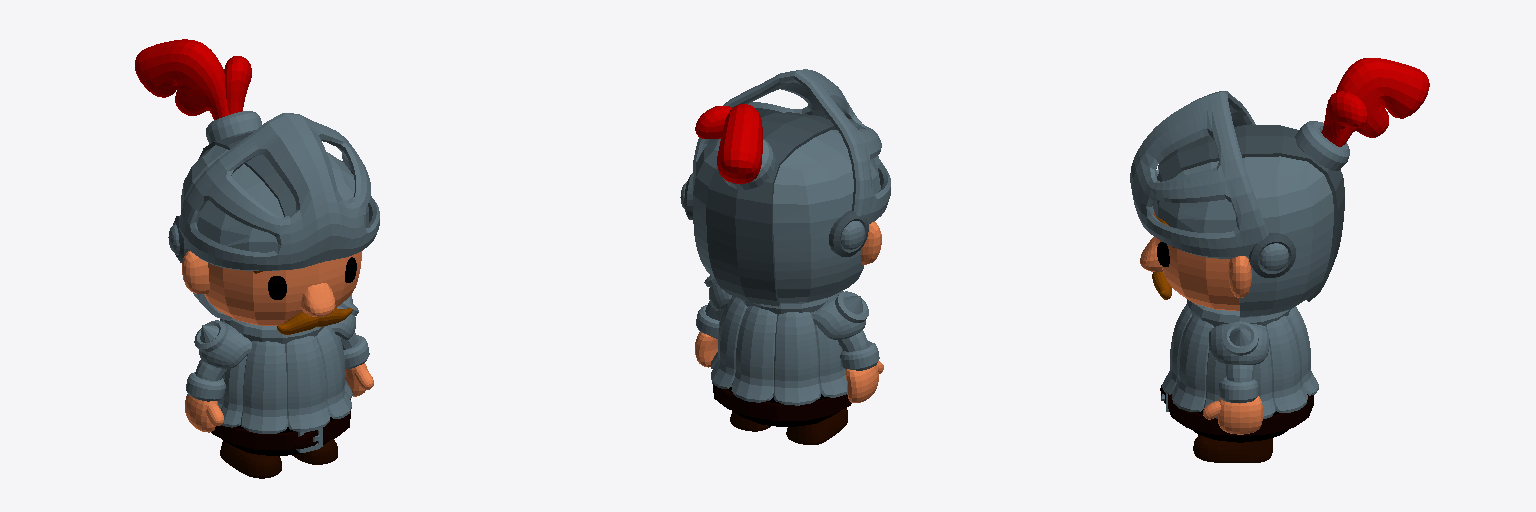
File: Knight2final.obj
The picture shows the model from 3 angles: view 1: azimuth 30°, elevation 25°; view 2: azimuth 150°, elevation 25°; view 3: azimuth 270°, elevation 25°; orthographic projection.
Parts seen in each view (by area): view 1: Knight2_Head, Knight2_Body, Knight2_Right_Arm, Knight2_Left_Arm, Knight2_Right_Foot, Knight2_Left_Foot; view 2: Knight2_Head, Knight2_Body, Knight2_Right_Arm, Knight2_Left_Arm, Knight2_Right_Foot; view 3: Knight2_Head, Knight2_Body, Knight2_Left_Arm, Knight2_Left_Foot.
Boxes of the visible parts, box(x1,y1,x2,y2) form: Knight2_Head: box(135, 39, 379, 334); Knight2_Body: box(211, 318, 352, 456); Knight2_Right_Arm: box(185, 320, 251, 432); Knight2_Left_Arm: box(330, 294, 373, 396); Knight2_Right_Foot: box(220, 440, 281, 478); Knight2_Left_Foot: box(292, 439, 337, 464); Knight2_Head: box(680, 69, 890, 306); Knight2_Body: box(711, 291, 851, 426); Knight2_Right_Arm: box(812, 291, 883, 402); Knight2_Left_Arm: box(695, 275, 731, 367); Knight2_Right_Foot: box(786, 408, 847, 444); Knight2_Head: box(1130, 58, 1429, 317); Knight2_Body: box(1160, 299, 1318, 442); Knight2_Left_Arm: box(1203, 321, 1269, 434); Knight2_Left_Foot: box(1193, 435, 1272, 462).
Size of the model in its own units: 1.79 by 3.45 by 2.51.